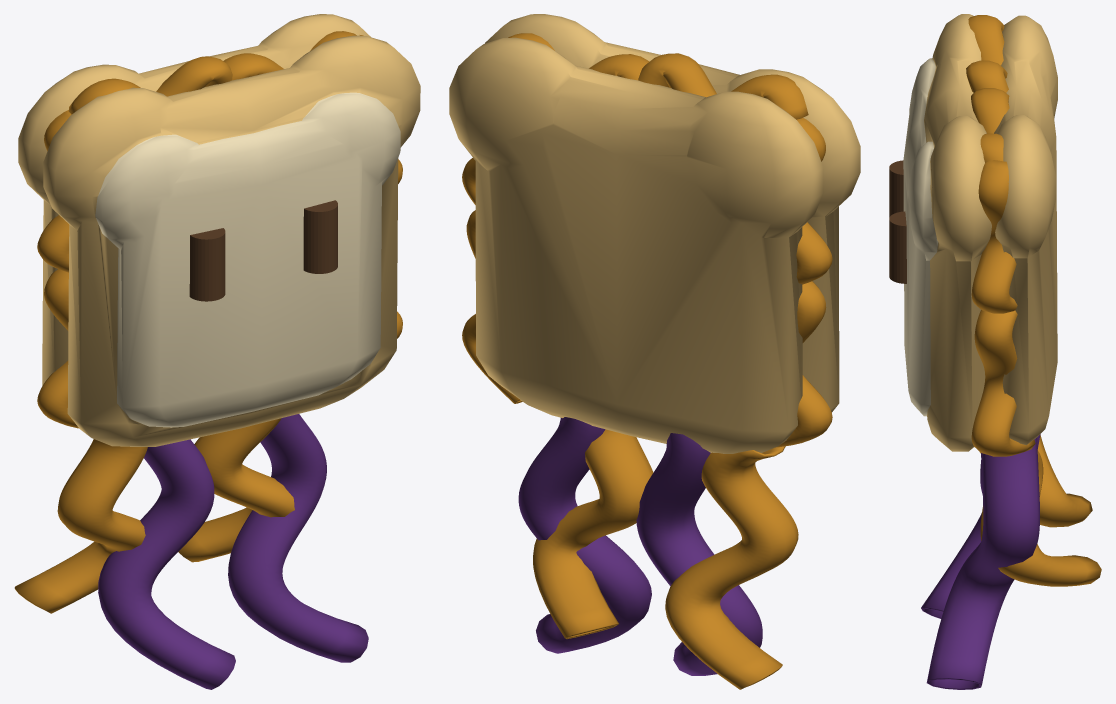
File: potassium sorbate (4).fbx
3 views of the same model, side by side, from view 1: azimuth 30°, elevation 25°; view 2: azimuth 150°, elevation 25°; view 3: azimuth 270°, elevation 25° (orthographic). The views are drawn at different scales.
Visible parts, largest first — view 1: Sphere.031; view 2: Sphere.031; view 3: Sphere.031.
Part boxes in pixels (bbox=[...]): Sphere.031: bbox=[14, 14, 420, 689]; Sphere.031: bbox=[449, 14, 860, 689]; Sphere.031: bbox=[889, 14, 1101, 689].
Bounding box in the file's own units: 167 × 270 × 90.48.
